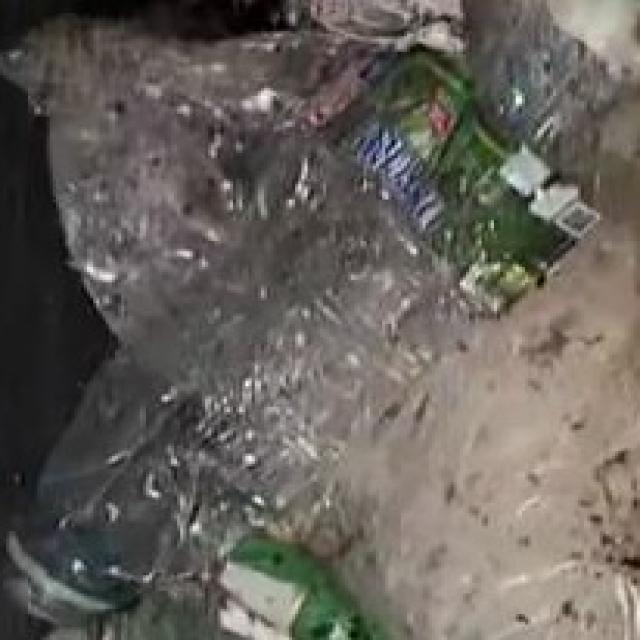plasticbottle: (14, 20, 573, 625)
